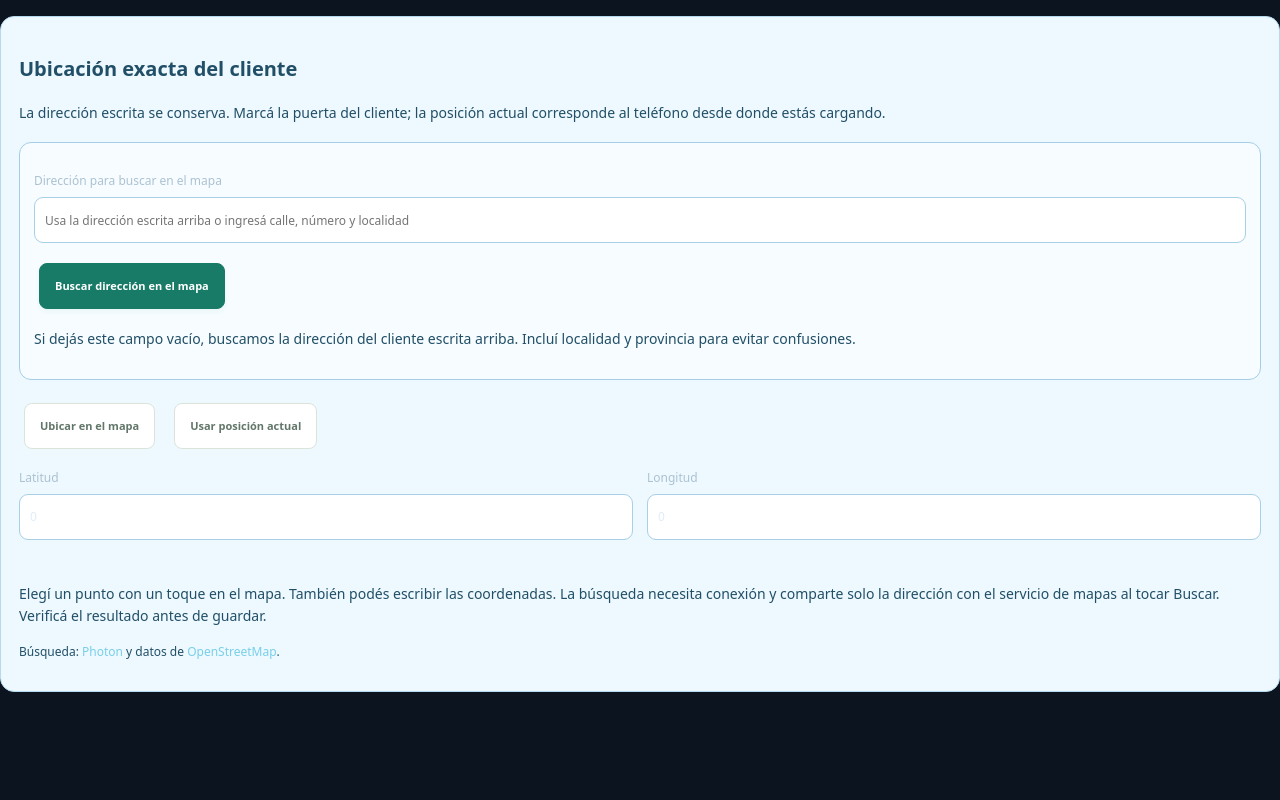
Test case: informa permiso denegado sin reemplazar el punto anterior
Click the button "Usar posición actual" at (246, 426), box x1=174 y1=403 x2=317 y2=449
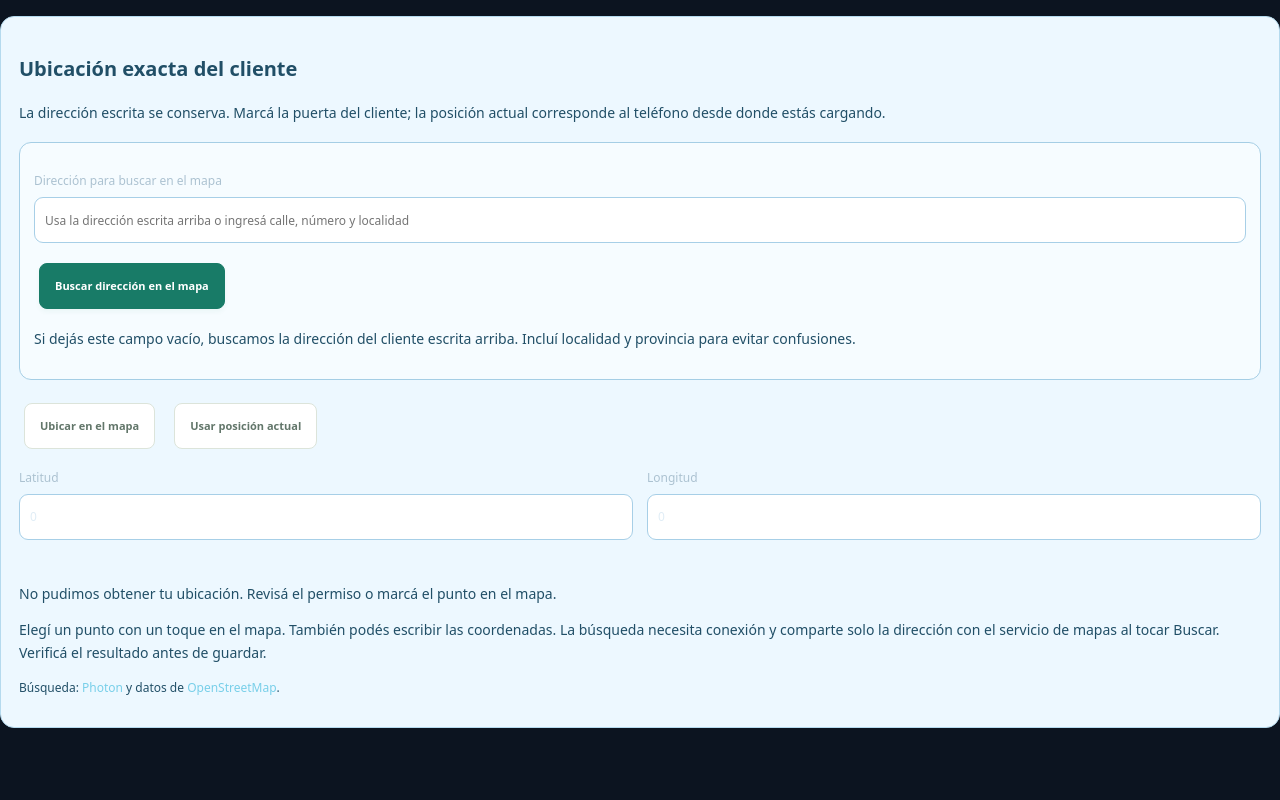
Expected: the message shows "permiso", x1=19 y1=584 x2=556 y2=603
